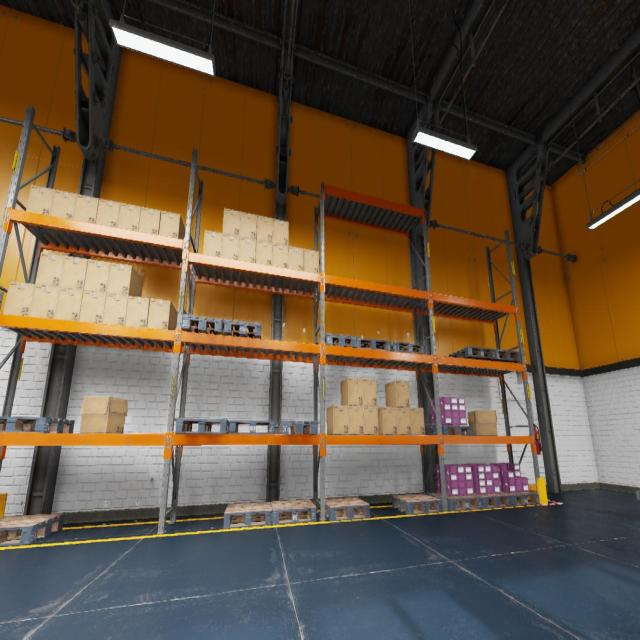box: (79, 397, 128, 432), (106, 262, 143, 296), (3, 281, 35, 316), (35, 252, 65, 287), (29, 284, 59, 318), (60, 255, 88, 290), (147, 298, 177, 330), (54, 288, 83, 320), (79, 290, 106, 323), (84, 259, 110, 293), (26, 185, 54, 215), (102, 293, 128, 325), (50, 190, 77, 219), (125, 296, 150, 327), (159, 210, 185, 239), (73, 194, 99, 223), (468, 410, 497, 435), (96, 198, 120, 227), (385, 380, 410, 407), (117, 202, 141, 230), (327, 405, 349, 434), (138, 207, 161, 234), (341, 377, 363, 405), (378, 406, 397, 434), (222, 208, 241, 236), (203, 230, 222, 257), (221, 233, 239, 260), (240, 212, 257, 240), (238, 237, 256, 263), (256, 215, 273, 242), (348, 406, 364, 434), (272, 218, 288, 245), (255, 240, 272, 265), (362, 378, 377, 406), (410, 408, 425, 435), (396, 407, 411, 434), (272, 243, 288, 268), (364, 406, 378, 434), (288, 246, 304, 270), (304, 249, 318, 273)
pallets: (0, 513, 64, 546), (223, 501, 272, 529), (0, 416, 75, 433), (270, 500, 316, 525), (392, 493, 442, 515), (325, 497, 370, 521), (431, 492, 483, 512), (181, 314, 224, 335), (175, 418, 229, 434), (224, 319, 261, 338), (229, 419, 275, 434), (448, 346, 496, 360), (500, 491, 540, 506), (473, 493, 512, 508), (477, 349, 521, 362), (278, 420, 317, 434), (426, 425, 474, 435), (390, 341, 426, 354), (325, 333, 357, 347), (358, 338, 390, 351)
